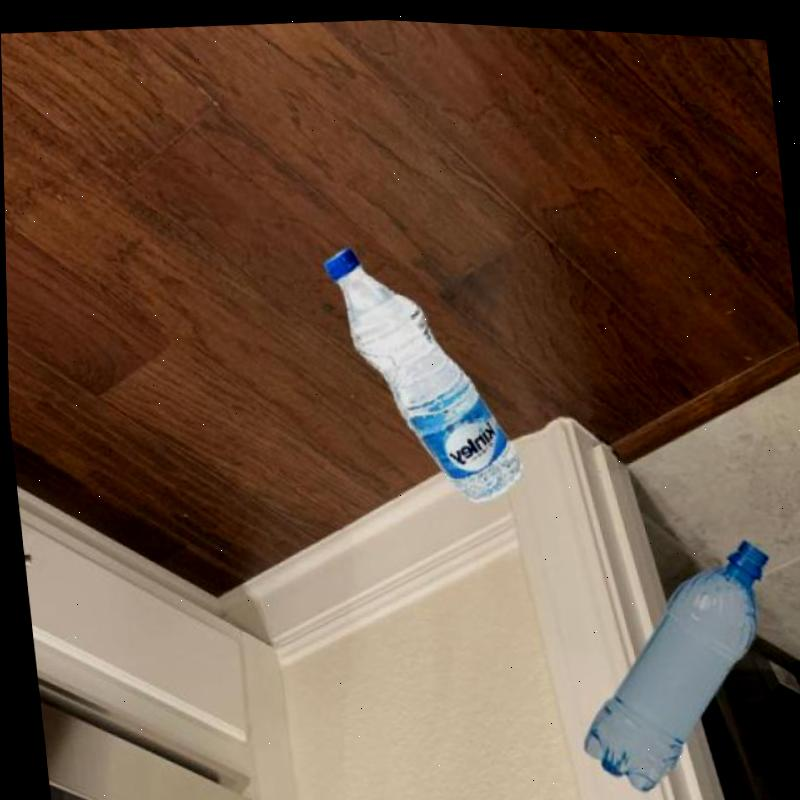botella: (560, 523, 790, 798), (322, 230, 524, 511)
